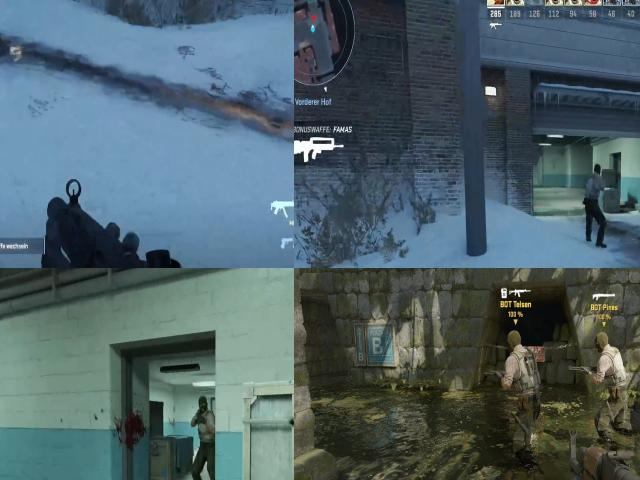Bomb: (522, 352, 537, 377)
T: (503, 326, 543, 457), (590, 329, 630, 455), (194, 394, 215, 459), (585, 171, 601, 210)
T-Head: (501, 327, 527, 358), (590, 329, 614, 360), (197, 395, 212, 421), (591, 163, 602, 179)
